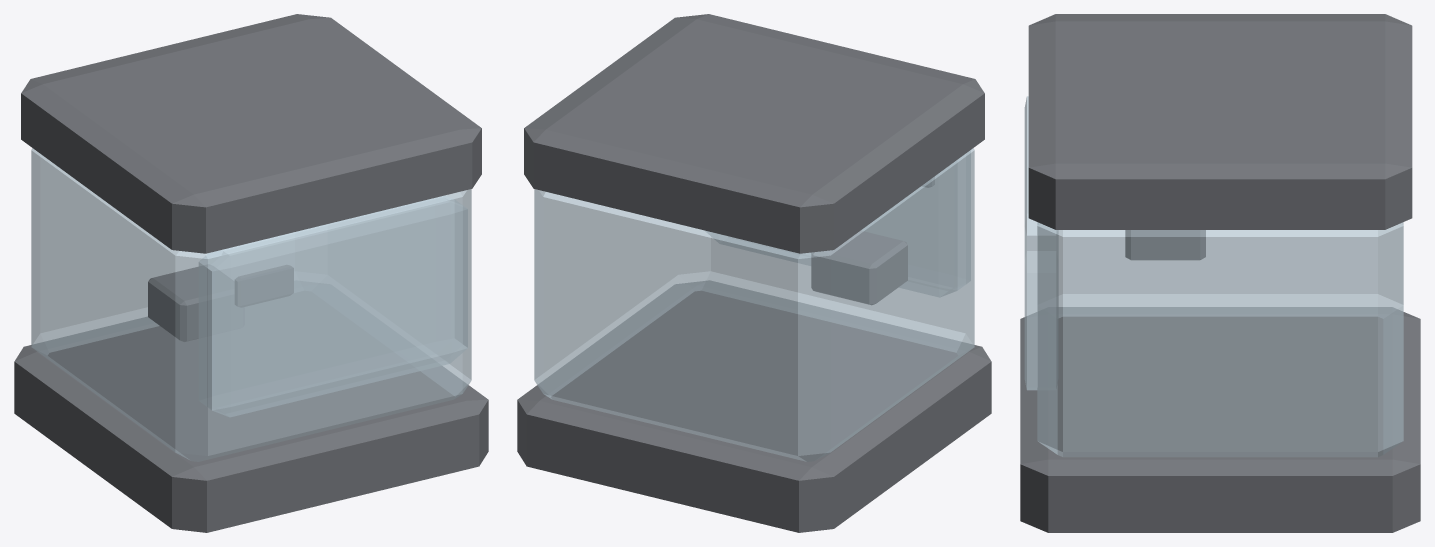
The model's file is b04_igloo_glass_bottle_recycling_bank.glb.
3 views of the same model, side by side, from view 1: azimuth 30°, elevation 25°; view 2: azimuth 150°, elevation 25°; view 3: azimuth 270°, elevation 25° (orthographic). The views are drawn at different scales.
Parts seen in each view (by area): view 1: b04_igloo_glass_bottle_recycling_bank; view 2: b04_igloo_glass_bottle_recycling_bank; view 3: b04_igloo_glass_bottle_recycling_bank.
Boxes of the visible parts, <box> form: b04_igloo_glass_bottle_recycling_bank: <box>14,14,488,532</box>; b04_igloo_glass_bottle_recycling_bank: <box>517,14,991,532</box>; b04_igloo_glass_bottle_recycling_bank: <box>1020,14,1420,532</box>.
Bounding box in the file's own units: 1.76 × 1.75 × 1.76.
